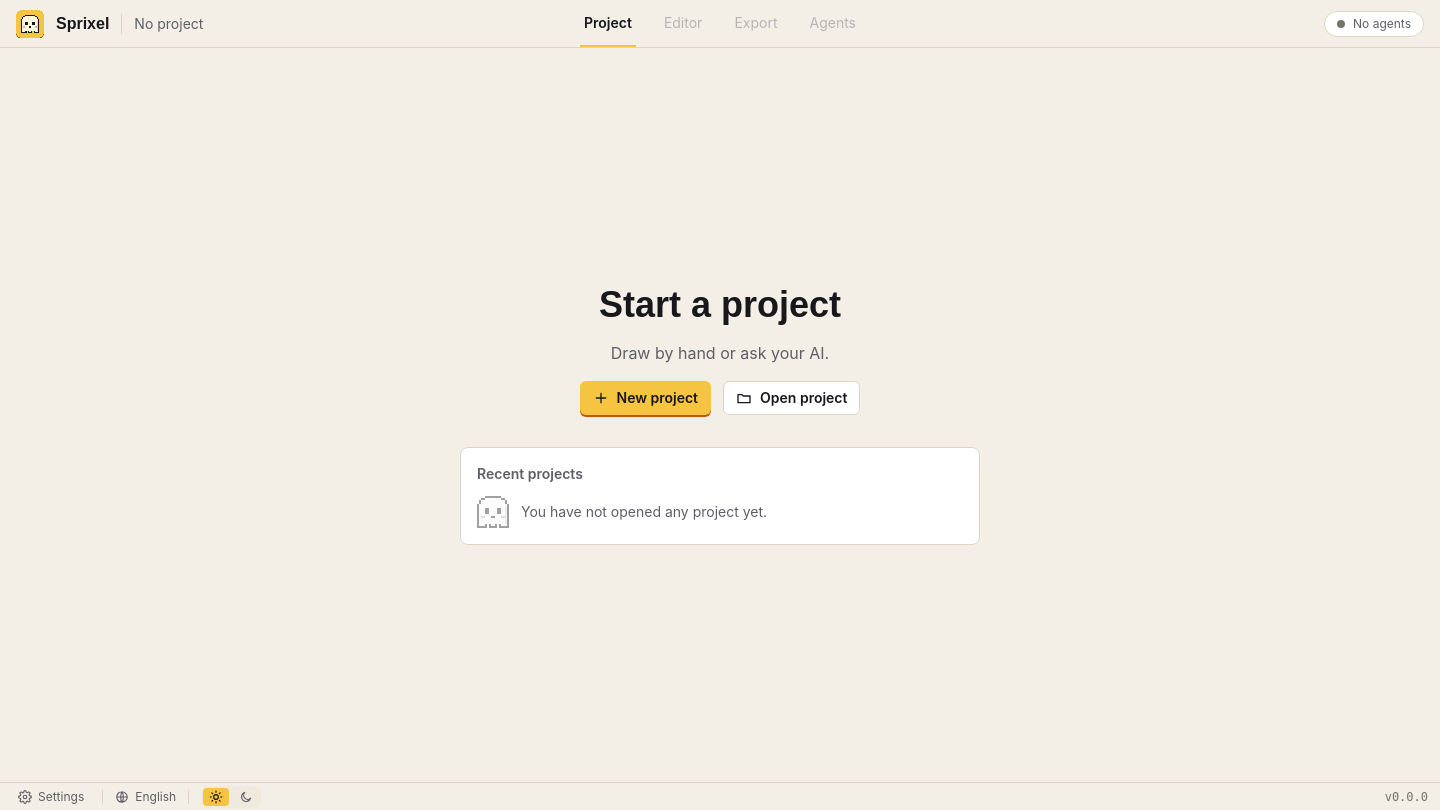
Test: Palettes in the Project tab › creates a palette from a preset with the plus button
Click the button "Open project" at (792, 398), box left=723, top=381, right=860, bottom=415
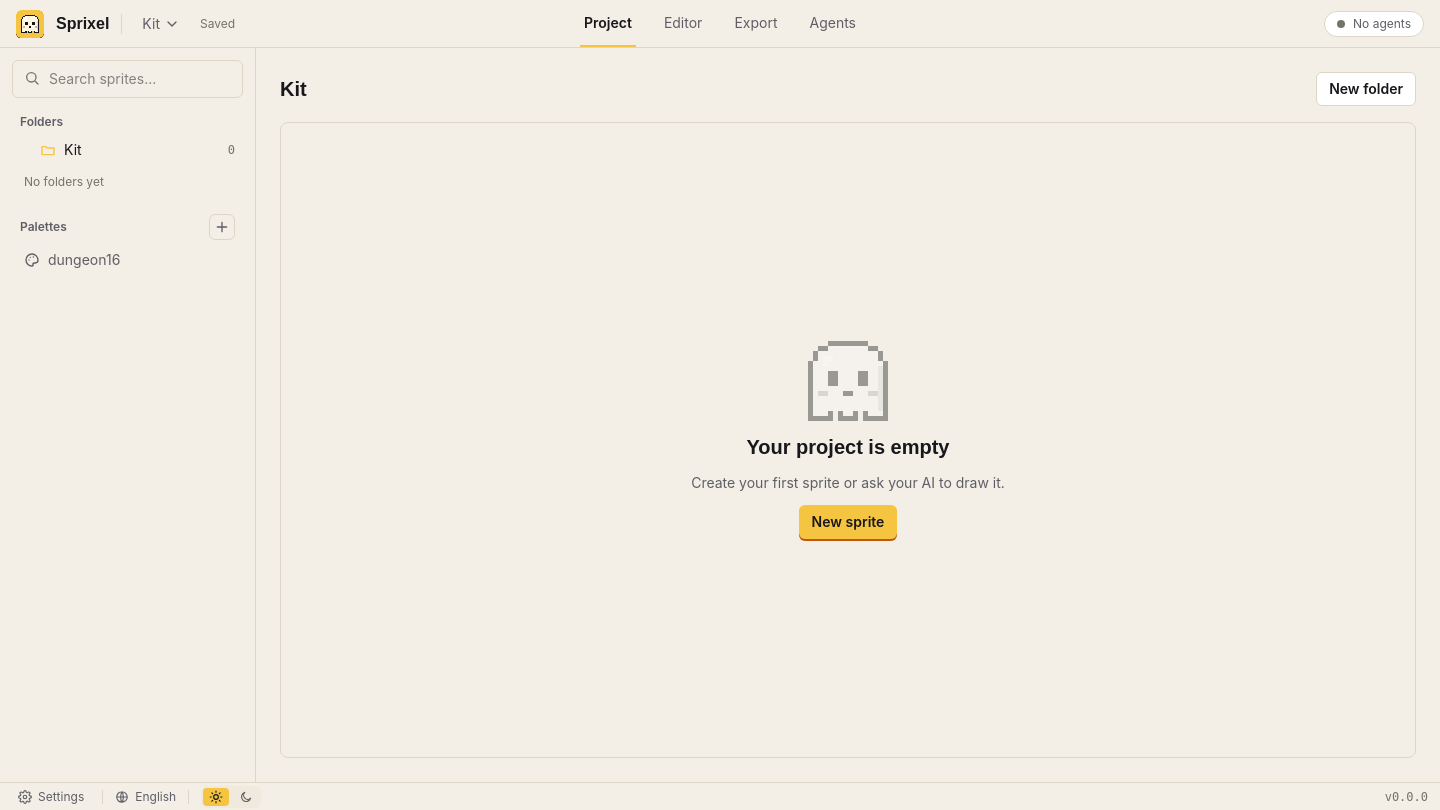
Click the button named "New palette" at (222, 227), box left=209, top=214, right=235, bottom=240
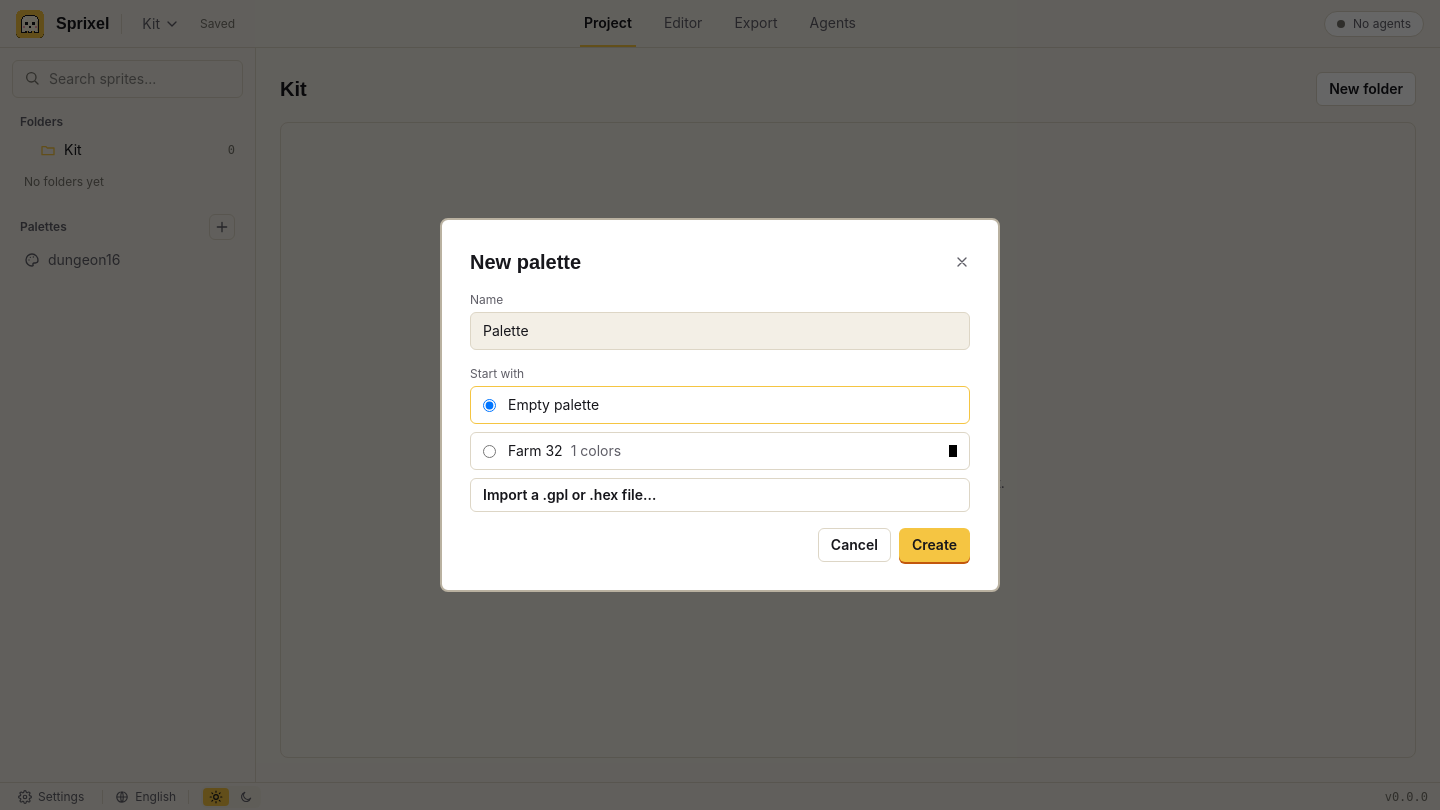
Click the radio button labelled "Farm 321 colors" at (490, 451), box left=483, top=444, right=496, bottom=458
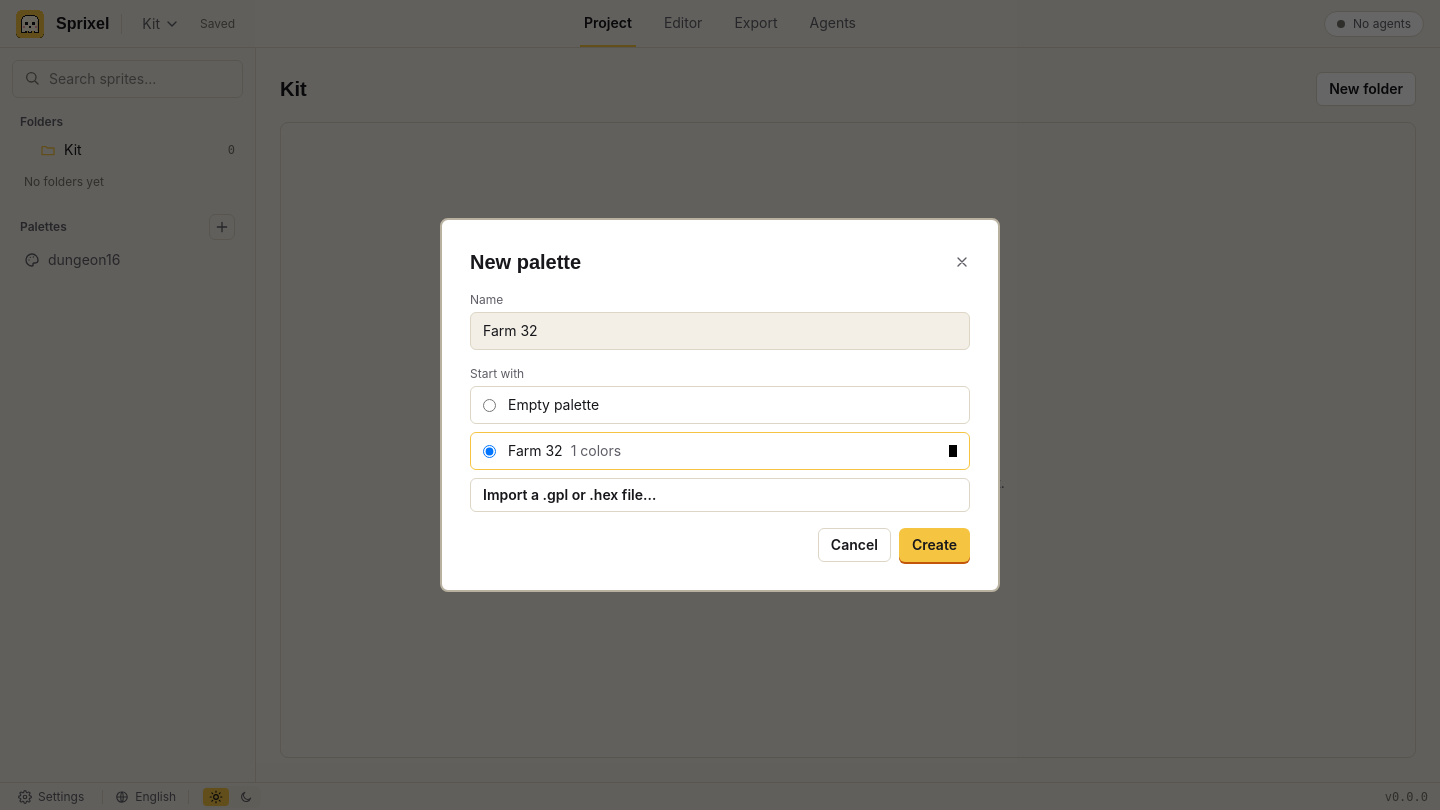
Click the button "Create" at (934, 545), box left=899, top=528, right=970, bottom=562
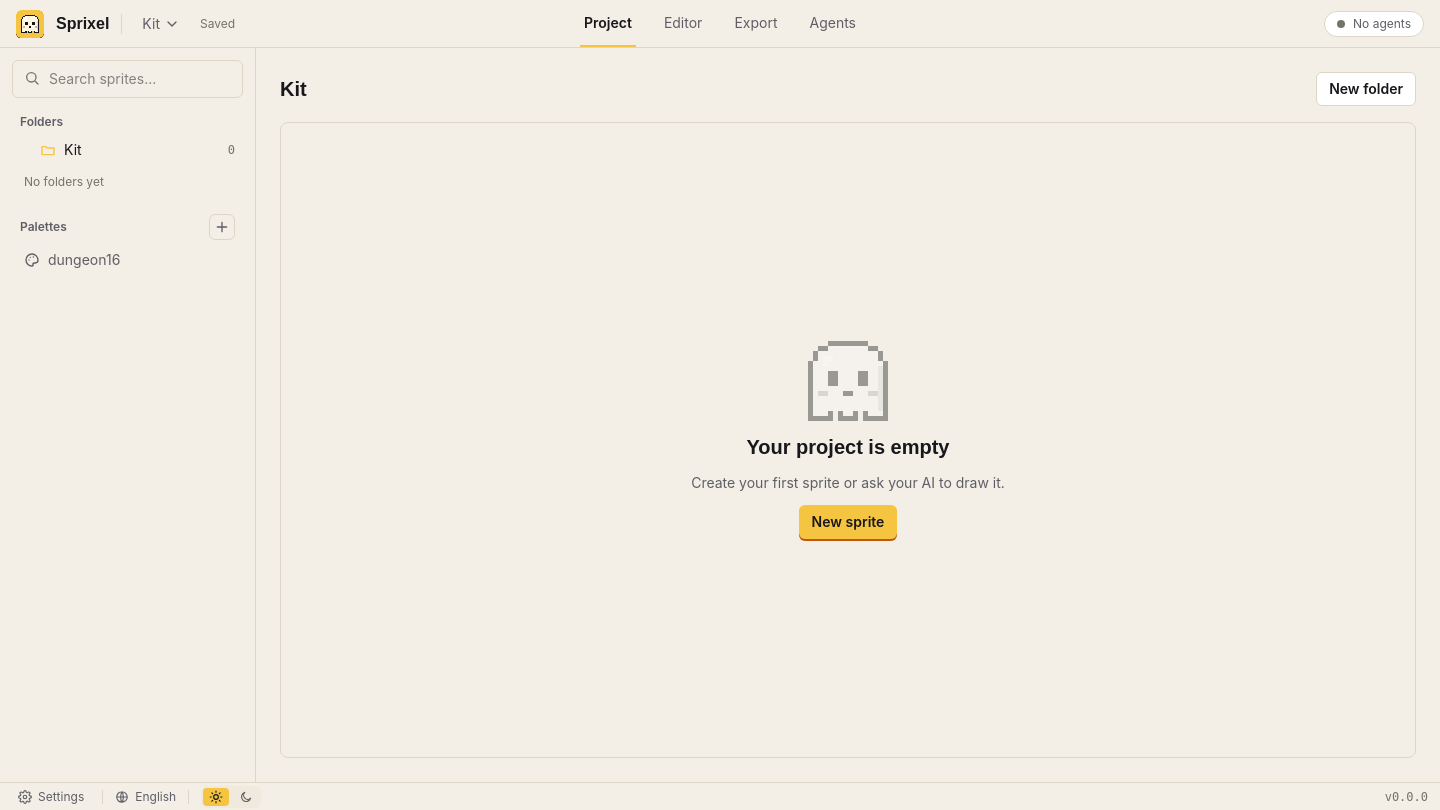
Expected: the dialog is gone
